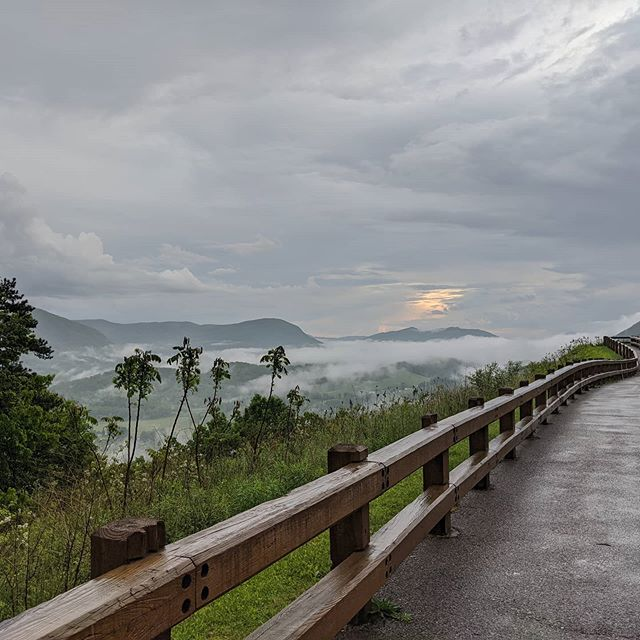mountain: (105, 300, 323, 338)
sky: (1, 1, 640, 313)
tree: (1, 286, 102, 524)
